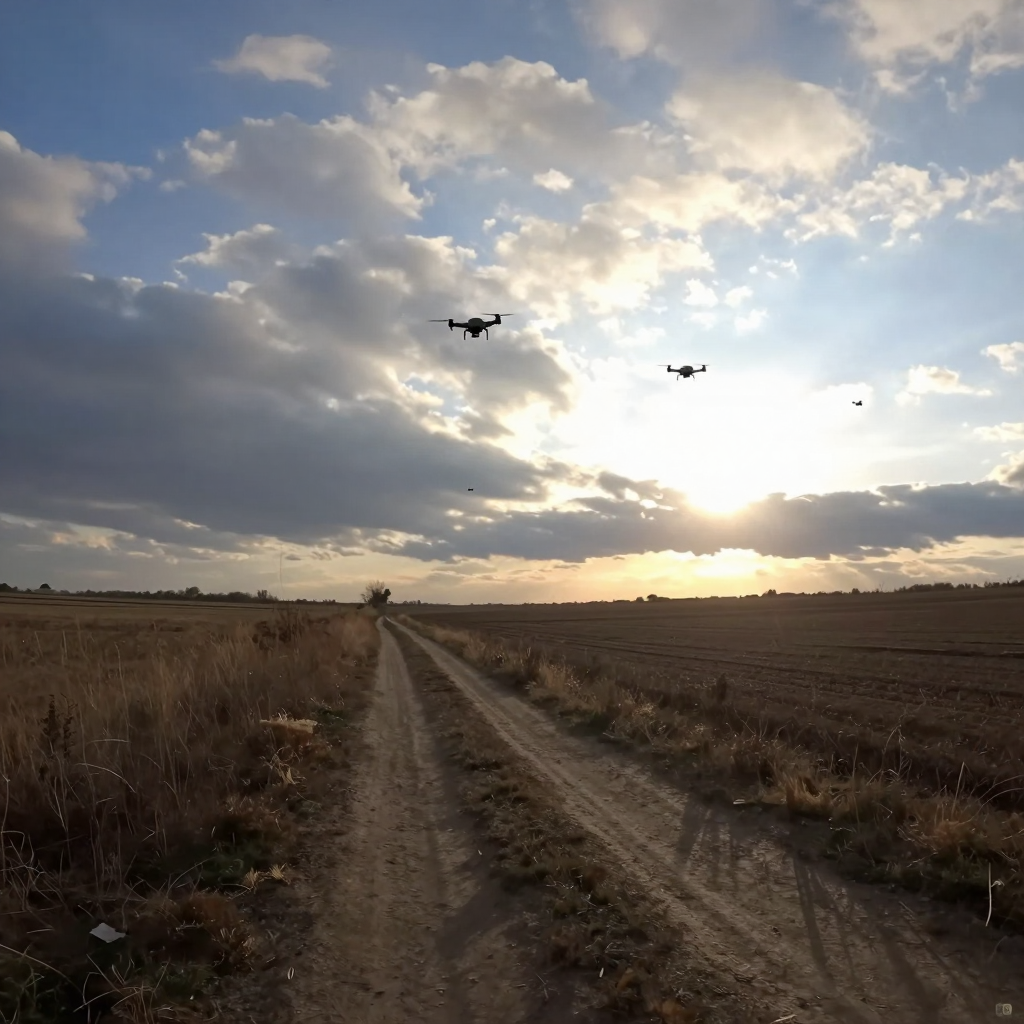drone: (428, 314, 512, 340), (657, 364, 709, 380), (852, 400, 863, 407)
